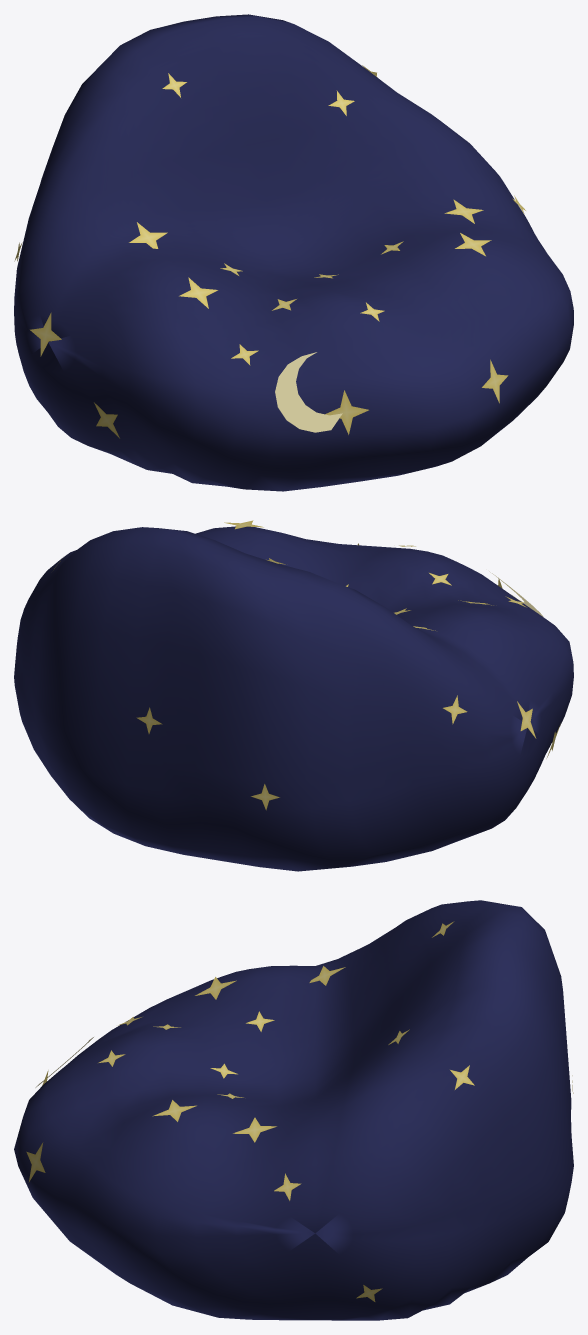
The model's file is furn_beanbag.glb.
3 renders of one model, top to bottom at view 1: azimuth 30°, elevation 25°; view 2: azimuth 150°, elevation 25°; view 3: azimuth 270°, elevation 25°, orthographic.
Visible parts, largest first — view 1: furn_beanbag_main; view 2: furn_beanbag_main; view 3: furn_beanbag_main.
Part boxes in pixels (x1=…): furn_beanbag_main: x1=14, y1=14, x2=573, y2=491; furn_beanbag_main: x1=14, y1=520, x2=573, y2=871; furn_beanbag_main: x1=14, y1=900, x2=573, y2=1320.
Bounding box in the file's own units: 0.8189 × 0.5192 × 0.8115.
